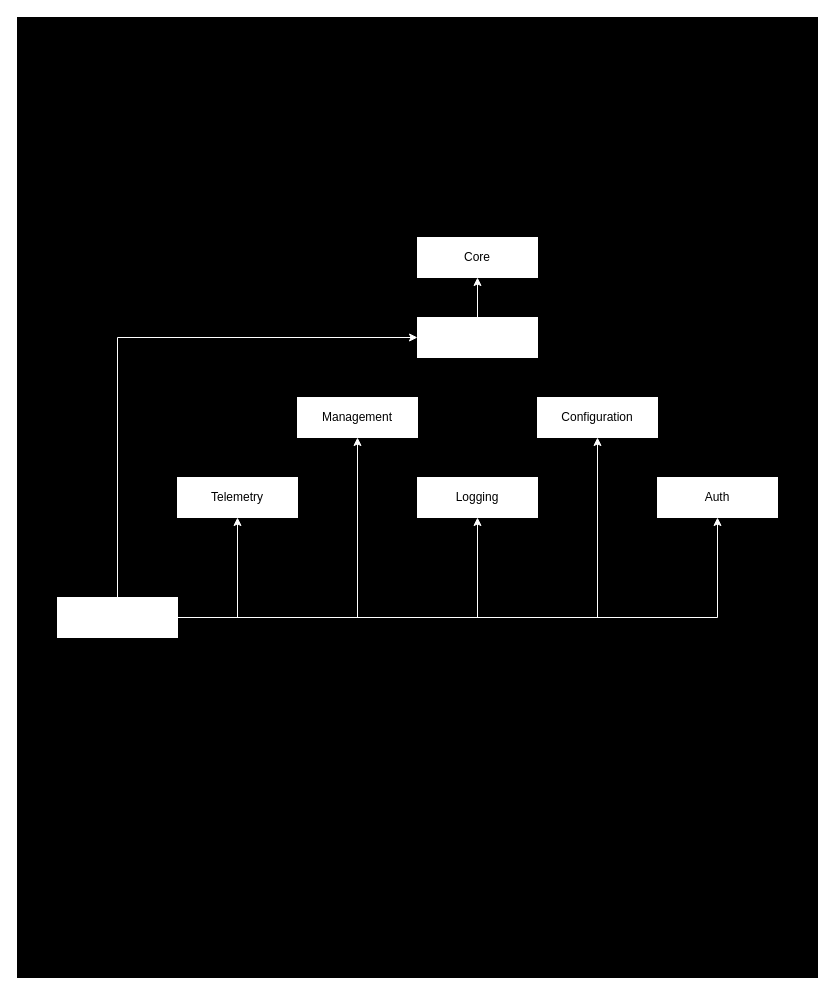
The diagram is 835 pixels wide and 995 high, and some of its shapes have lost their labels. Each missing label, with the centre of its shape:
Framework.Web: the point at 117,617
Persistence: the point at 477,337
